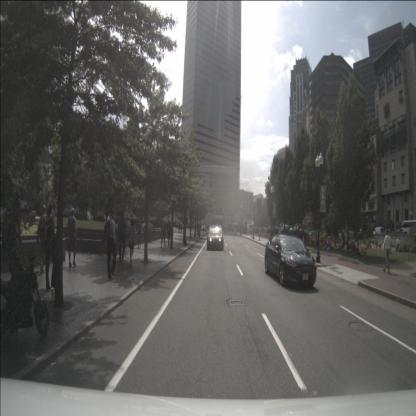human-pedestrian-adult: (2, 199, 26, 307), (44, 203, 58, 290), (104, 209, 117, 278), (36, 205, 48, 272), (66, 208, 77, 268), (382, 229, 392, 275), (118, 211, 127, 262), (127, 218, 136, 263), (136, 218, 142, 249), (166, 222, 172, 246), (161, 221, 166, 248), (396, 237, 399, 252), (278, 228, 281, 242), (180, 223, 182, 234), (178, 224, 180, 233)
vehicle-bus-rigid: (400, 220, 416, 235)
vehicle-car: (264, 233, 317, 288), (207, 224, 224, 251), (373, 227, 384, 235)
vehicle-motorcycle: (0, 255, 49, 344)
